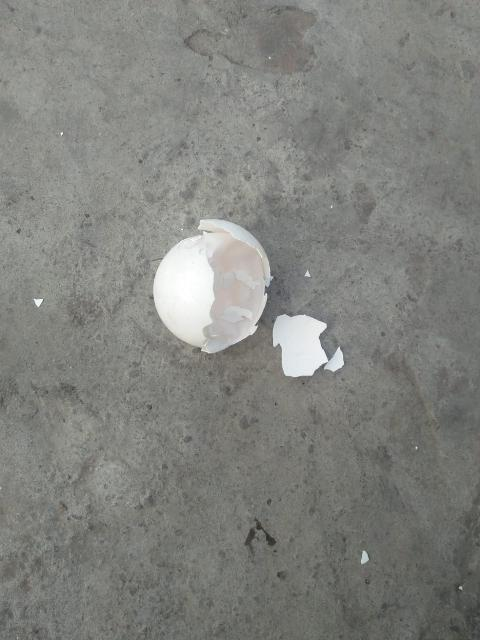Roto: (152, 218, 272, 354), (271, 312, 344, 378)
